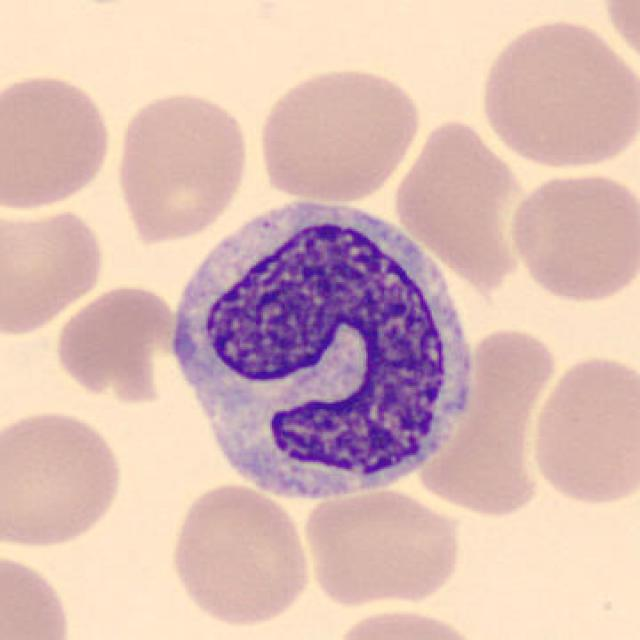Monocyte: (166, 191, 493, 517)
RBC: (474, 11, 636, 174), (401, 115, 536, 304), (432, 329, 560, 523), (253, 62, 423, 206), (110, 86, 254, 245), (165, 480, 315, 630), (300, 485, 466, 610), (503, 166, 638, 307), (524, 349, 638, 511), (2, 404, 128, 550), (0, 69, 116, 213), (50, 280, 183, 404), (0, 199, 108, 338), (0, 548, 76, 639), (325, 604, 487, 640), (595, 0, 640, 74)
